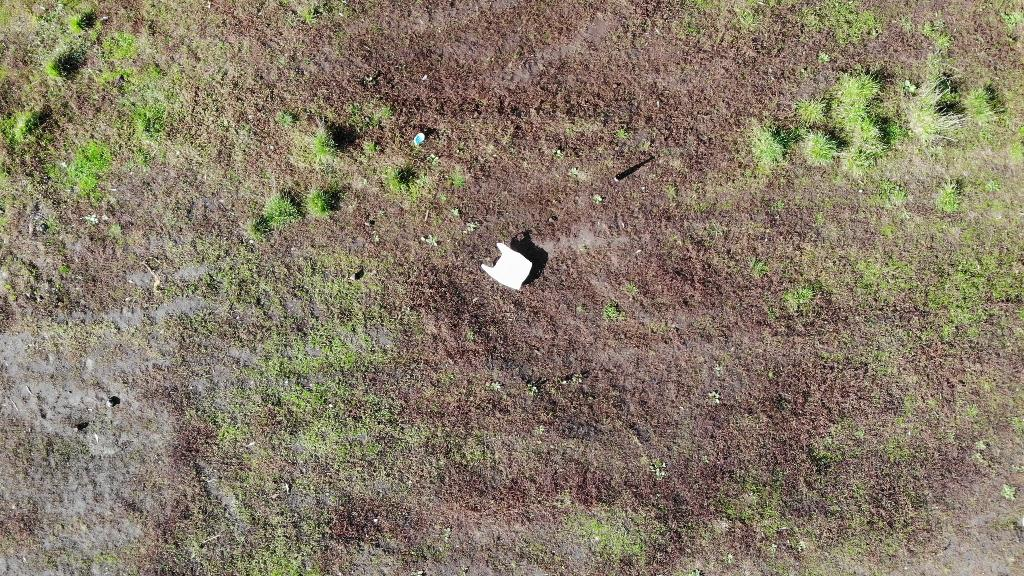garbage: (479, 238, 534, 296), (478, 241, 533, 293), (409, 132, 428, 148)
